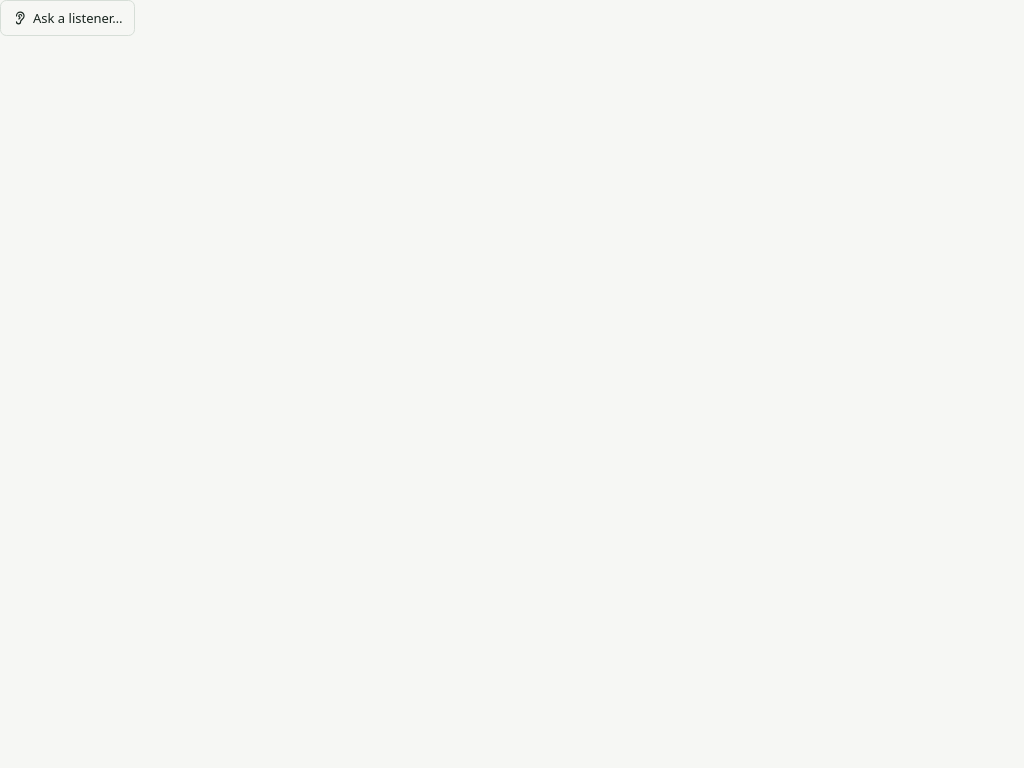
Test: Ask a listener (14.4) › limits questions to five
Later steps or results of the test are not shown.
Click the button "Ask a listener…" at (68, 18), box [0,0,135,36]
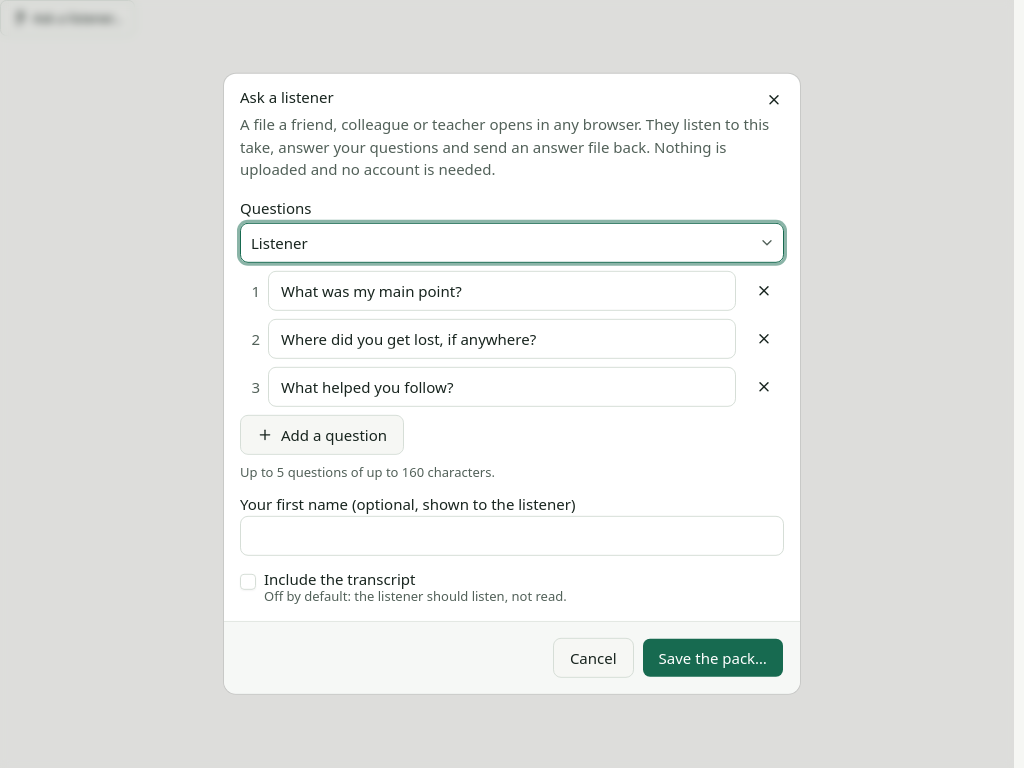
Click the button "Add a question" at (322, 435), box [240,415,404,455]
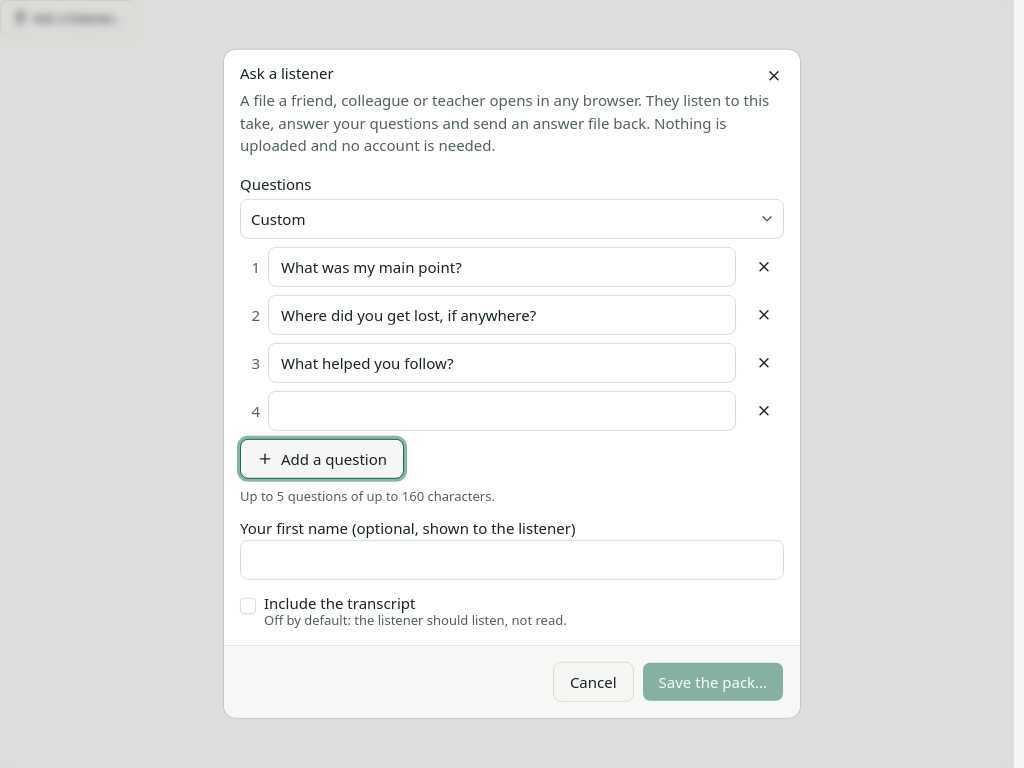
Click the button "Add a question" at (322, 459), box [240,439,404,479]
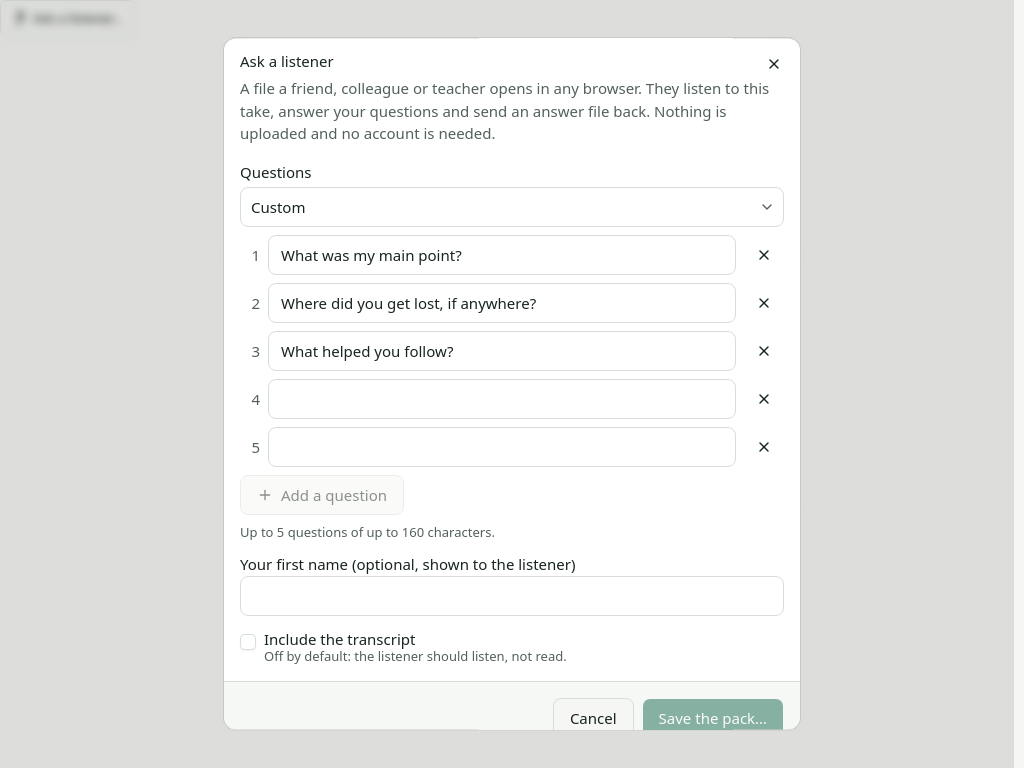
Check: the button "Save the pack…" is disabled, box [642,699,784,730]
Check: the number of fields named "Question 1" is 5, box [268,235,736,275]; [268,283,736,323]; [268,331,736,371]; [268,379,736,419]; [268,427,736,467]
Check: the button "Add a question" is disabled, box [240,475,404,515]
Click the button named "Remove question 5" at (764, 447), box [744,427,784,467]
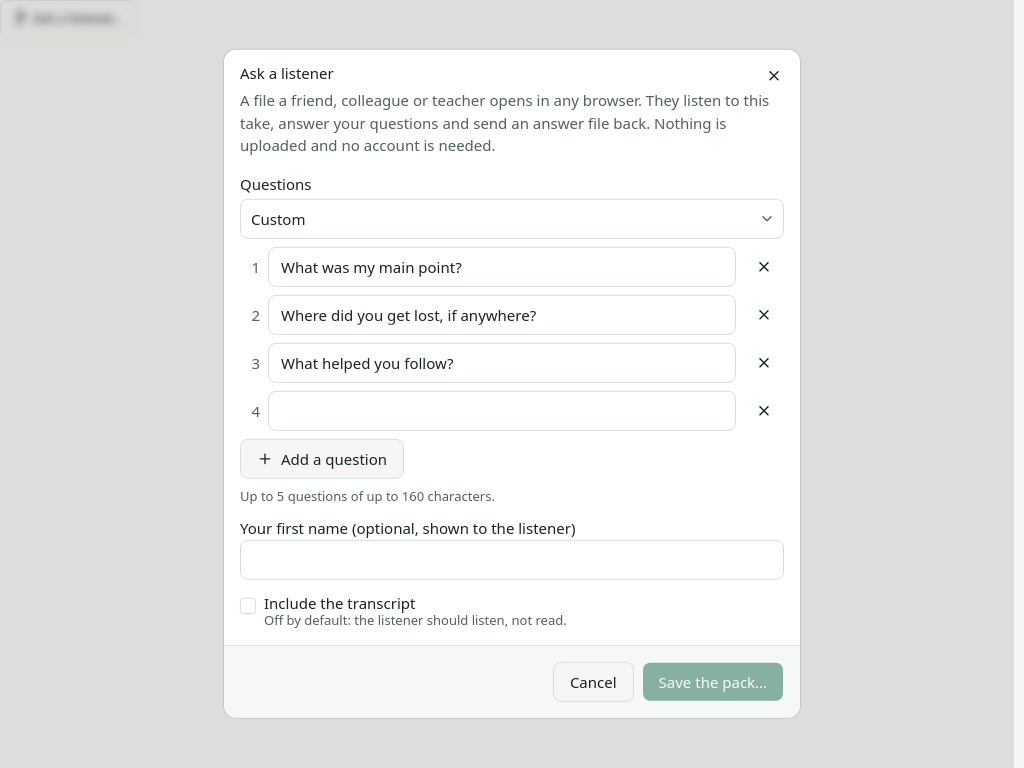
Type "Would you change one thing?" into the field named "Question 4" at (502, 411), box [268,391,736,431]
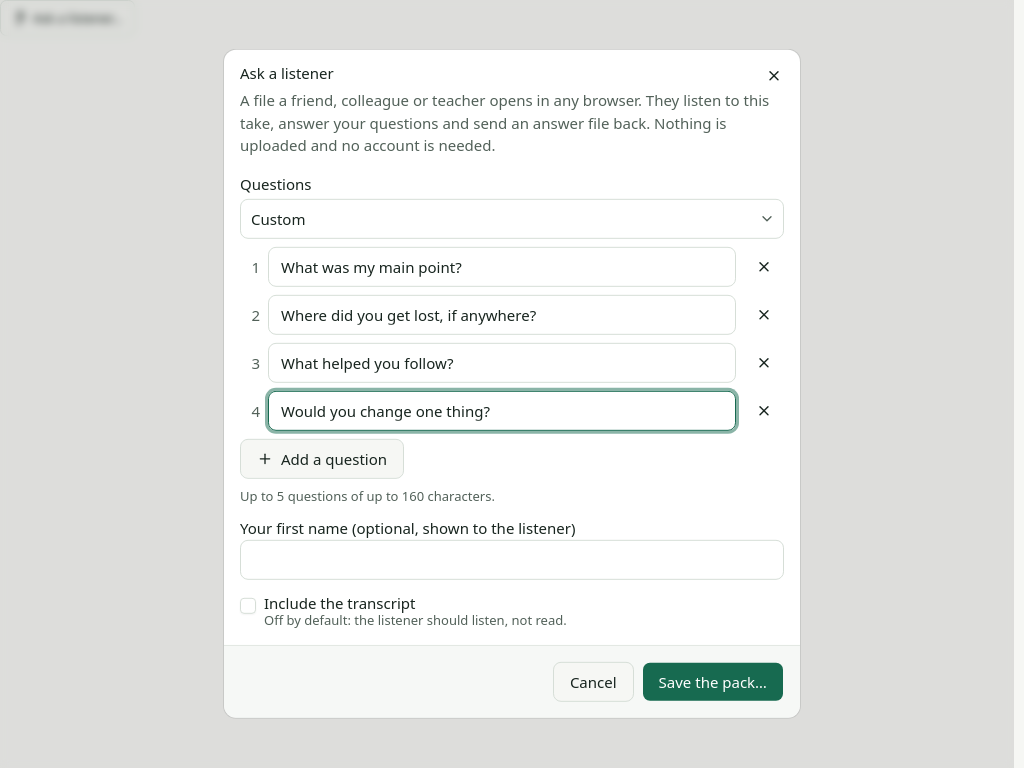
Check: the button "Add a question" is enabled, box [240,439,404,479]
